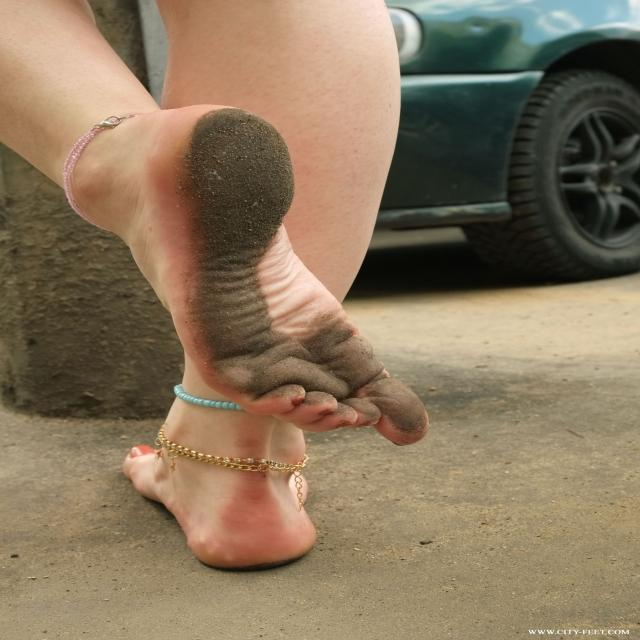Barefoots: (150, 104, 430, 446), (122, 443, 317, 571)
